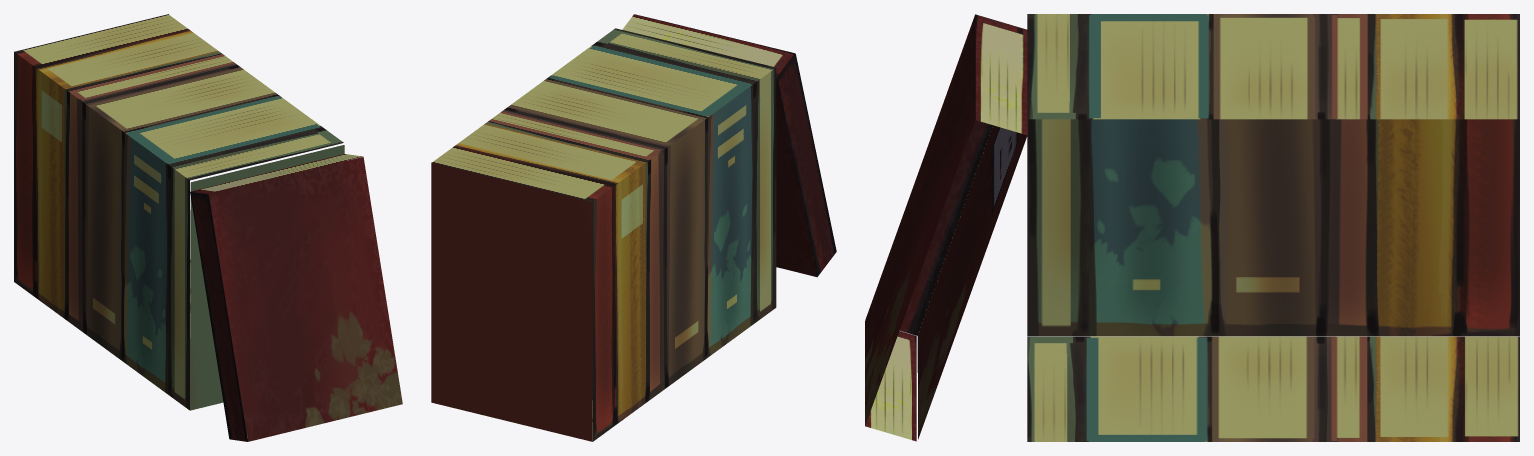
Rendered from M_Books.fbx.
The picture shows the model from 3 angles, left to right: view 1: azimuth 30°, elevation 25°; view 2: azimuth 150°, elevation 25°; view 3: azimuth 270°, elevation 25°; orthographic projection. The views are drawn at different scales.
Visible parts, largest first — view 1: M_Books; view 2: M_Books; view 3: M_Books.
Boxes of the visible parts, x1,y1,x2,y2 form: M_Books: (14,14,402,441); M_Books: (431,14,836,441); M_Books: (865,14,1519,441).
Bounding box in the file's own units: 141 × 200 × 368.
